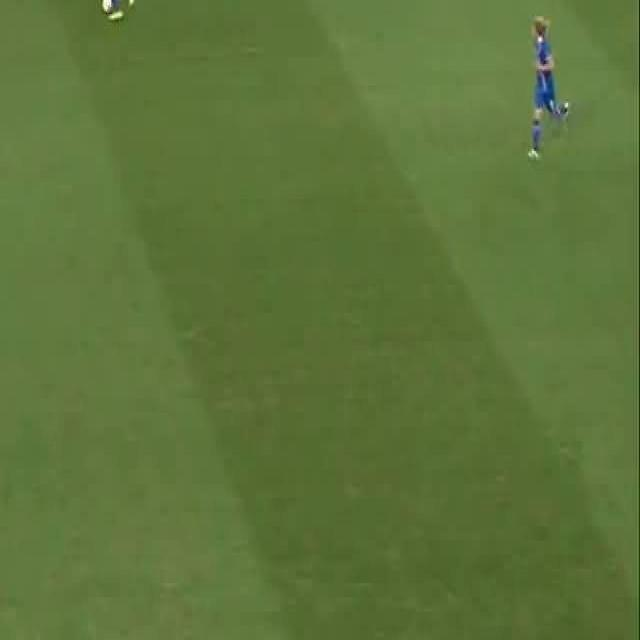ball: (102, 0, 112, 10)
player-white: (527, 17, 569, 161), (102, 0, 137, 22)
